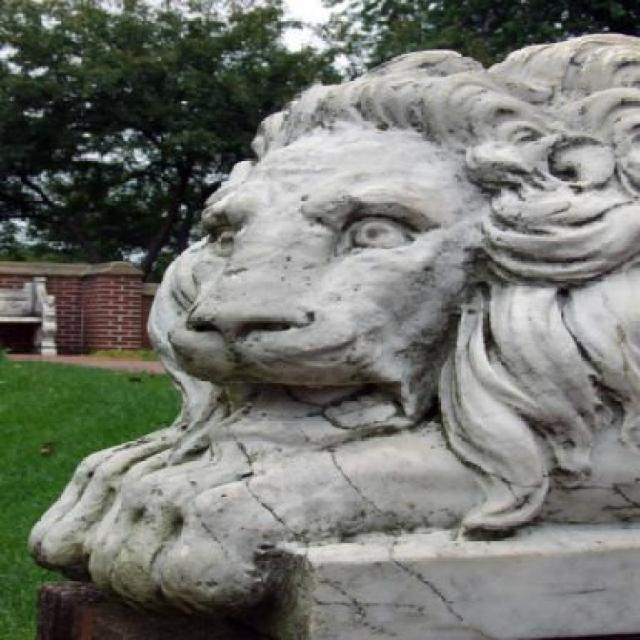Lion: (112, 79, 583, 542)
